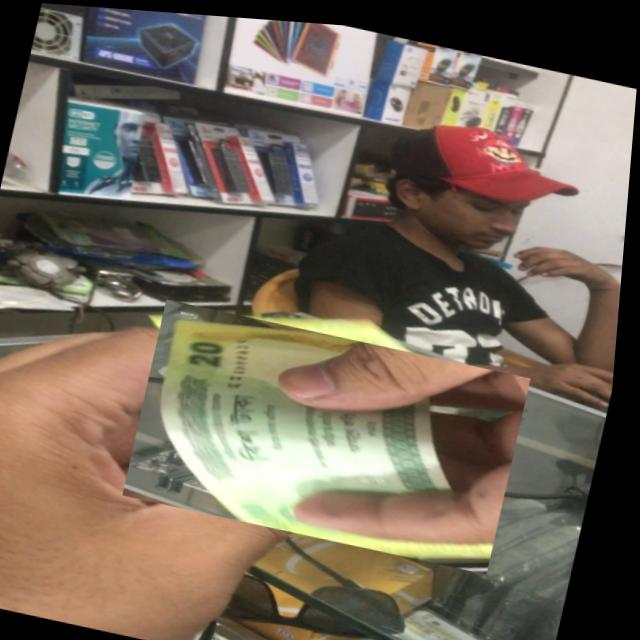Taka: (128, 295, 540, 568)
